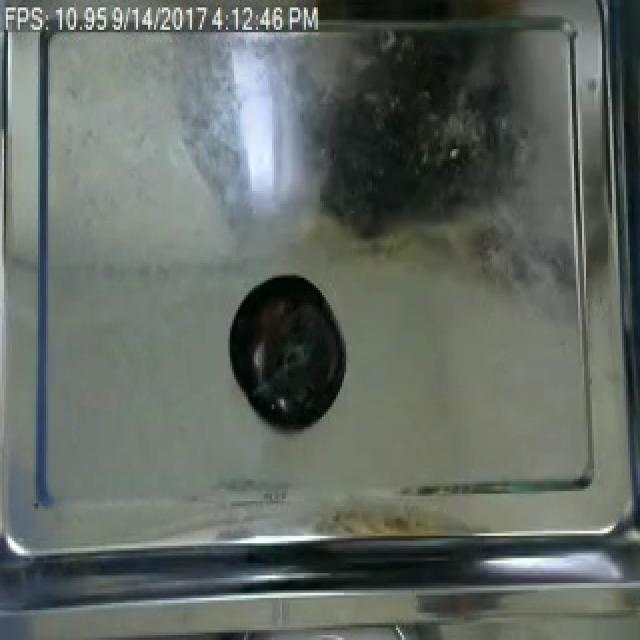Fruit: (222, 268, 348, 429)
